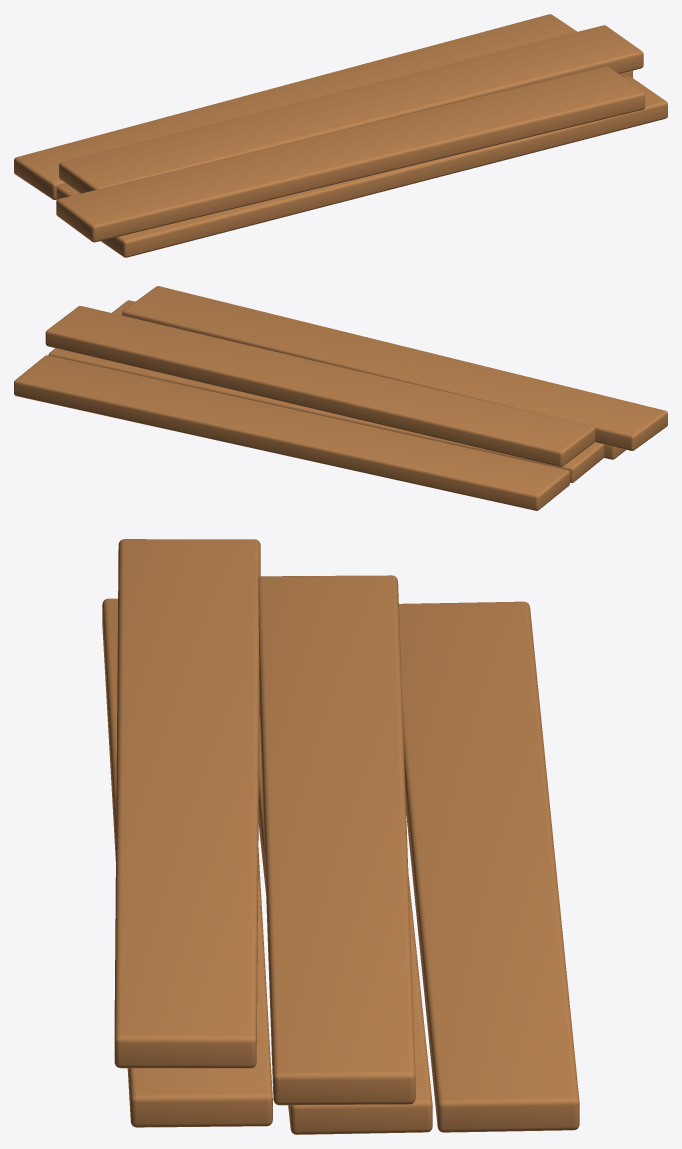
File: tabuas.glb
3 views of the same model, one above another, from view 1: azimuth 30°, elevation 25°; view 2: azimuth 150°, elevation 25°; view 3: azimuth 270°, elevation 25° (orthographic). The views are drawn at different scales.
Parts seen in each view (by area): view 1: Cube.003, Cube.004, Cube.002, Cube; view 2: Cube.002, Cube.004, Cube.003, Cube.001, Cube; view 3: Cube.004, Cube.003, Cube.002, Cube, Cube.001.
Boxes of the visible parts, x1,y1,x2,y2 form: Cube.003: (56, 66, 645, 242); Cube.004: (59, 25, 643, 193); Cube.002: (14, 14, 577, 199); Cube: (101, 75, 667, 257); Cube.002: (14, 355, 569, 510); Cube.004: (45, 306, 595, 466); Cube.003: (122, 286, 667, 450); Cube.001: (48, 348, 604, 482); Cube: (112, 300, 626, 459); Cube.004: (258, 575, 415, 1105); Cube.003: (114, 539, 260, 1068); Cube.002: (399, 601, 579, 1132); Cube: (102, 598, 272, 1127); Cube.001: (258, 715, 432, 1134).
Size of the model in its own units: 2.15 by 0.125 by 0.8056.
